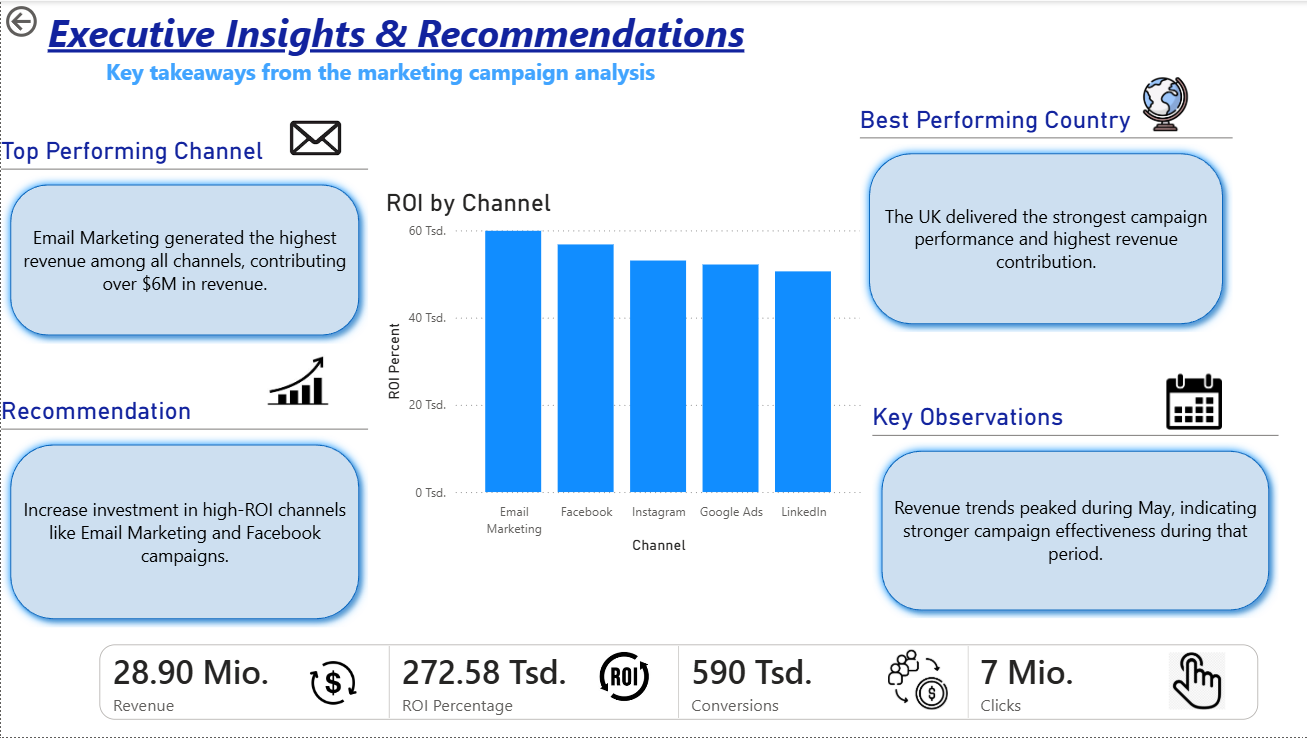

What the dashboard file says about the page in this screenshot:
{"tool":"powerbi","page":{"name":"Executive Insights","canvas":[1280,720],"ordinal":3},"visuals":[{"type":"textbox","box":[9.8,0,722.7,92.9],"z":0},{"type":"shape","title":"Top Performing Channel","box":[0,132.1,359.5,203],"z":1000},{"type":"columnChart","title":"ROI by Channel","fields":{"Category":["Marketing Campaign Data.Channel"],"Y":["Sum(Marketing Campaign Data.ROI_Percent)"]},"box":[371.7,183.4,475.7,362],"z":2000},{"type":"shape","title":"Best Performing Country","box":[840.1,101.5,364.4,222.6],"z":3000},{"type":"shape","title":"Recommendation","box":[0,386.4,359.5,226.2],"z":4000},{"type":"shape","title":"Key Observations","box":[852.3,392.5,397.4,211.6],"z":5000},{"type":"image","box":[264.1,106.4,86.8,55],"z":6000},{"type":"image","box":[243.3,335.1,94.2,72.1],"z":7000},{"type":"image","box":[1110.3,74.6,57.5,52.6],"z":8000},{"type":"image","box":[1138.5,364.4,57.5,55],"z":9000},{"type":"cardVisual","fields":{"Data":["Sum(Marketing Campaign Data.Revenue_USD)","Sum(Marketing Campaign Data.ROI_Percent)","Sum(Marketing Campaign Data.Conversions)","Sum(Marketing Campaign Data.Clicks)"]},"box":[79.5,612.6,1170.3,107.6],"z":10000},{"type":"image","box":[291,634.7,68.5,64.8],"z":11000},{"type":"image","box":[560.1,632.2,99,64.8],"z":12000},{"type":"image","box":[867,634.7,59.9,58.7],"z":13000},{"type":"image","box":[1136,637.1,68.5,56.3],"z":14000},{"type":"actionButton","box":[0,0,100,40],"z":15000}]}

Visuals, with their boxes in screenshot pixels (x1, y1, x2, y2), scaled from the page's 1280x720 canvas onto the 1307x738 screenshot:
textbox: [left=10, top=0, right=748, bottom=95]
"Top Performing Channel" shape: [left=0, top=135, right=367, bottom=343]
"ROI by Channel" columnChart: [left=380, top=188, right=865, bottom=559]
"Best Performing Country" shape: [left=858, top=104, right=1230, bottom=332]
"Recommendation" shape: [left=0, top=396, right=367, bottom=628]
"Key Observations" shape: [left=870, top=402, right=1276, bottom=619]
image: [left=270, top=109, right=358, bottom=165]
image: [left=248, top=343, right=345, bottom=417]
image: [left=1134, top=76, right=1192, bottom=130]
image: [left=1163, top=374, right=1221, bottom=430]
cardVisual - Sum(Marketing Campaign Data.Revenue_USD) x Sum(Marketing Campaign Data.ROI_Percent): [left=81, top=628, right=1276, bottom=737]
image: [left=297, top=651, right=367, bottom=717]
image: [left=572, top=648, right=673, bottom=714]
image: [left=885, top=651, right=946, bottom=711]
image: [left=1160, top=653, right=1230, bottom=711]
actionButton: [left=0, top=0, right=102, bottom=41]
